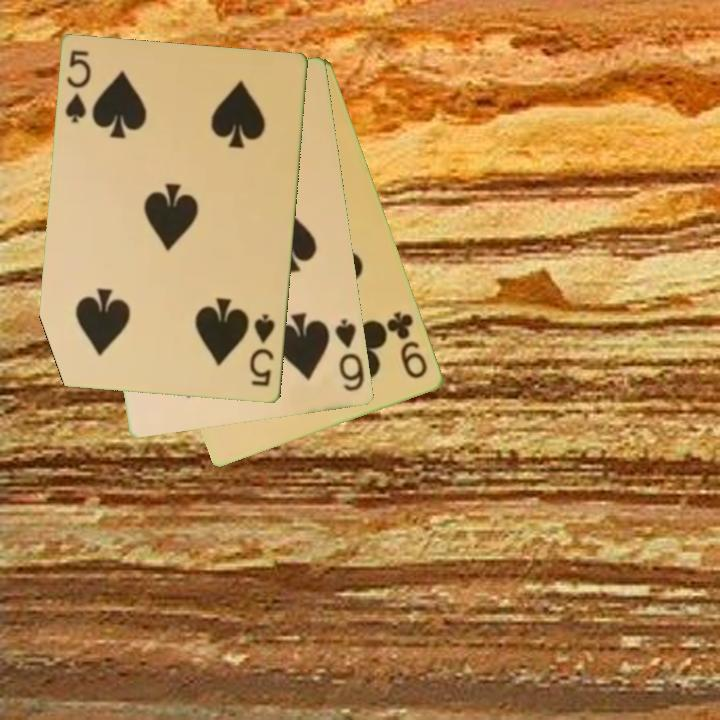5s: (246, 310, 278, 390), (62, 47, 94, 127)
6s: (332, 315, 368, 395)
9c: (384, 308, 431, 382)
